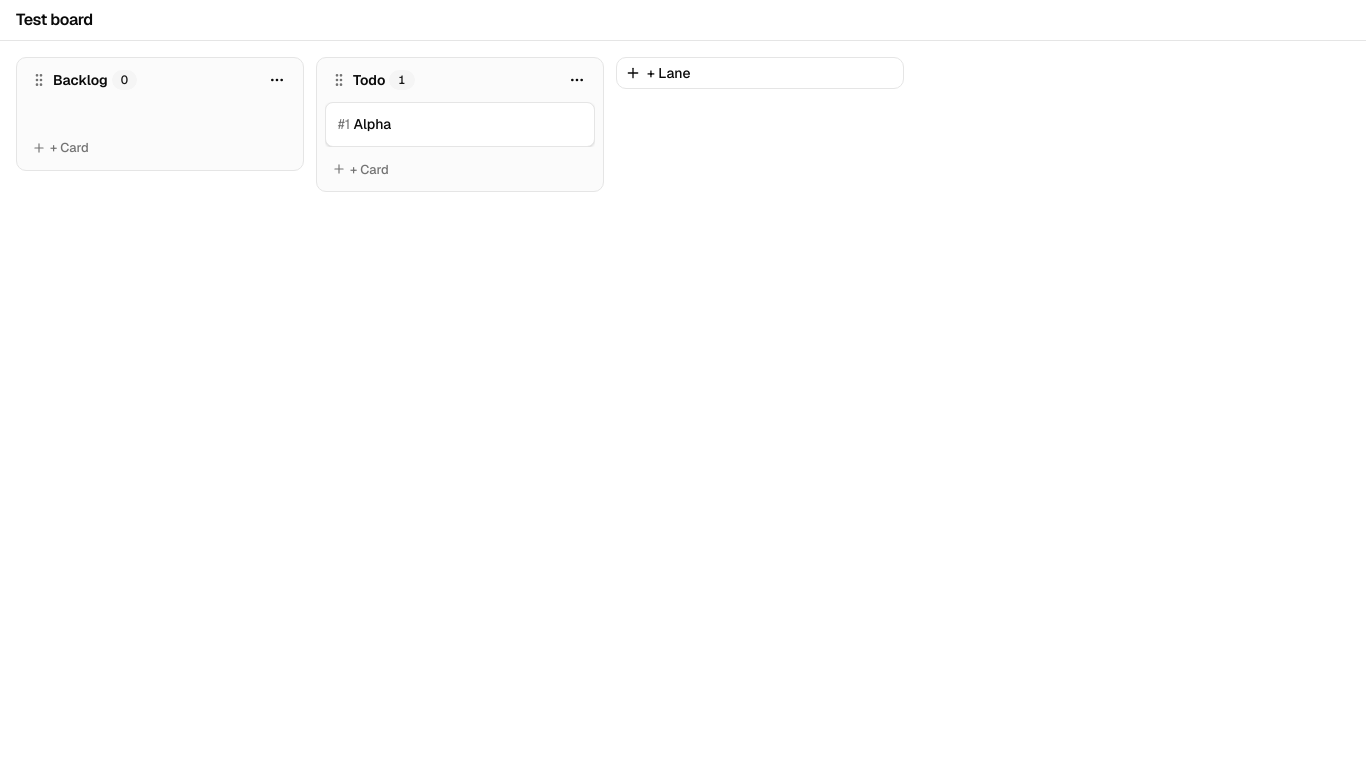
Scenario: a rule the server refuses shows its message and changes nothing
Expected: the text "Alpha" is shown, [354,115,391,133]
Click the button "#1 Alpha" at (372, 124), box [325,102,595,147]
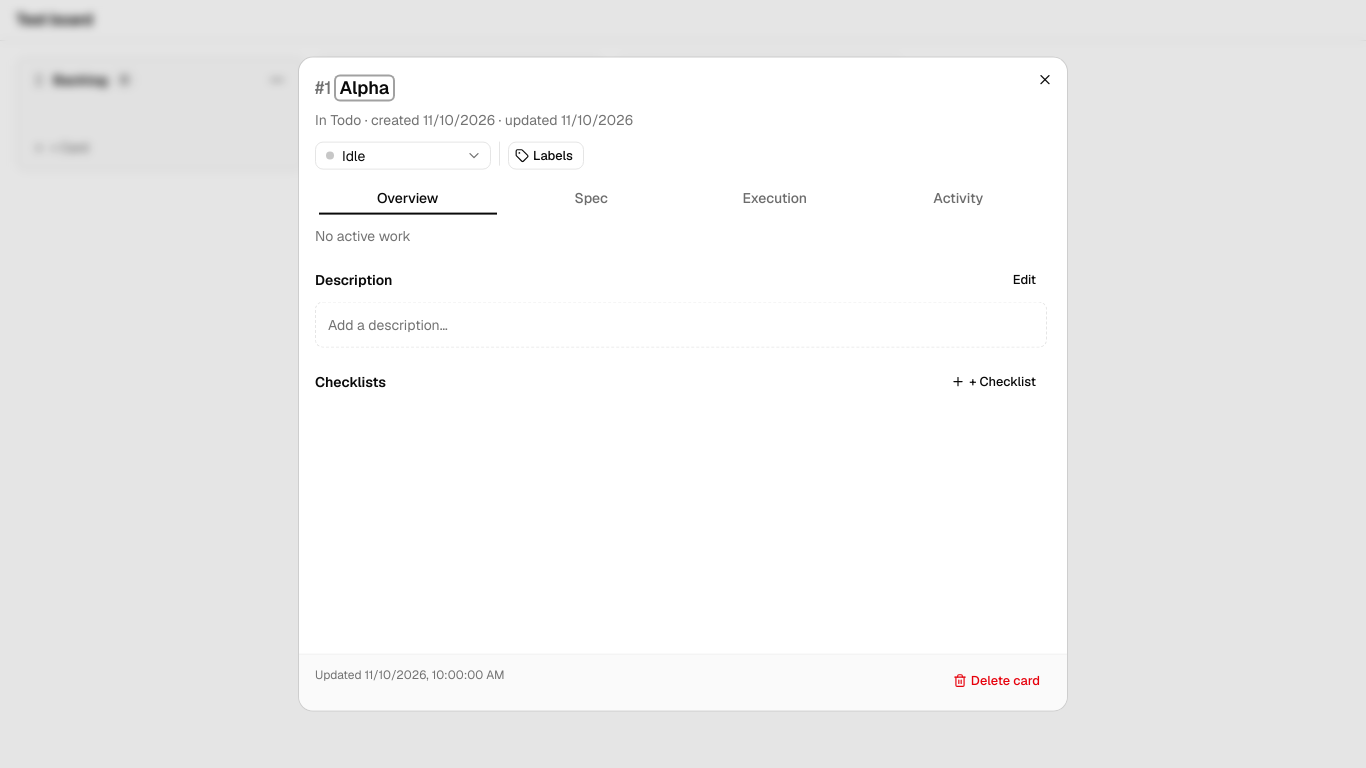
Click the button "+ Checklist" at (996, 382), box [944,368,1047,396]
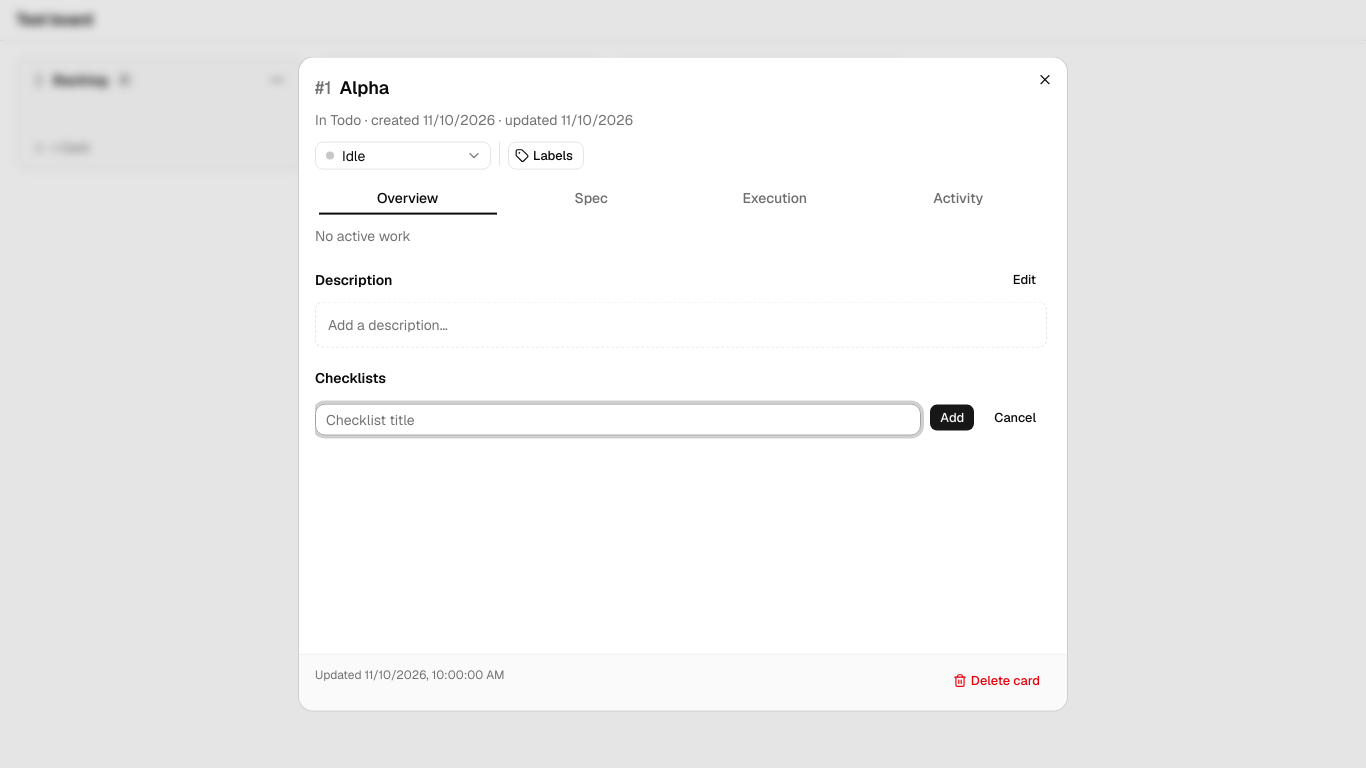
Type "Steps" into the field labelled "Checklist title" at (618, 420), box [315,404,921,436]
Then press Enter
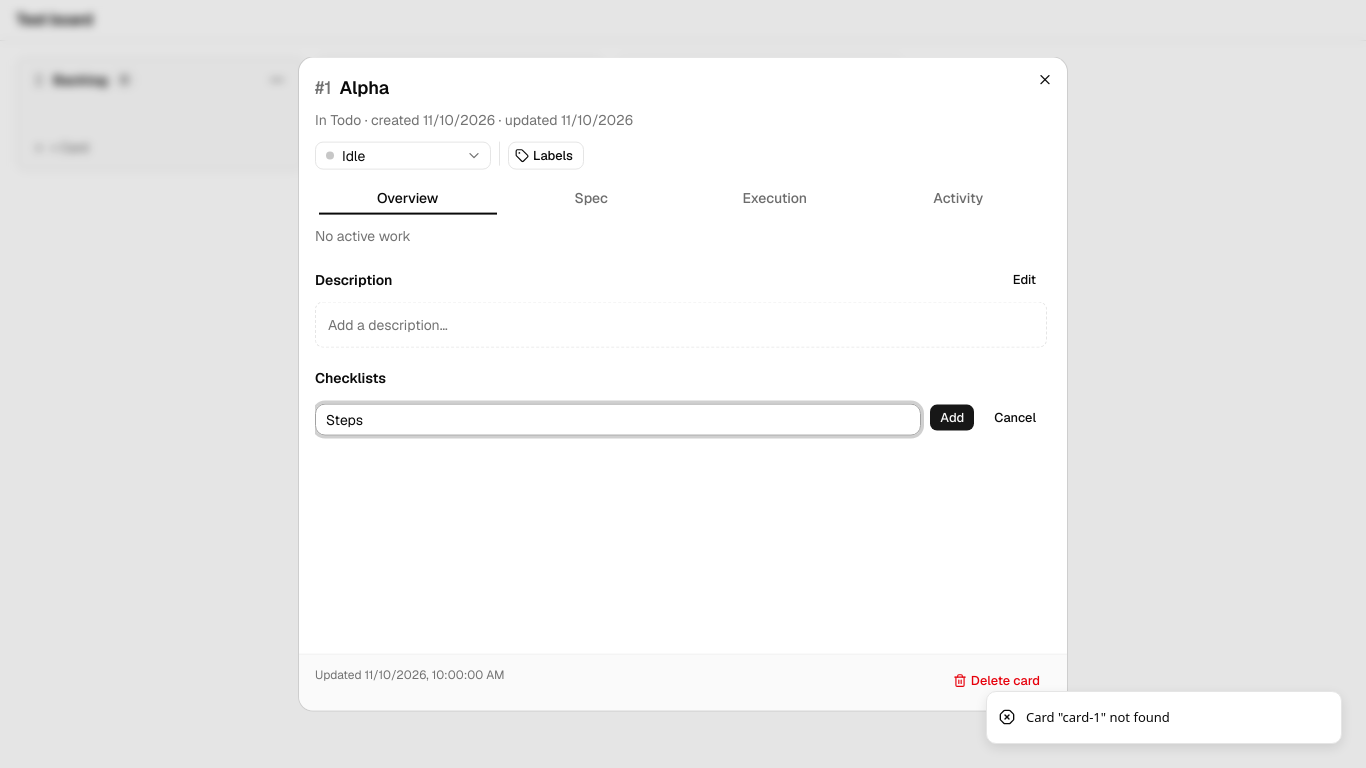
Now the text "Card \"card-1\" not found" is shown, box [1026,708,1170,727]
